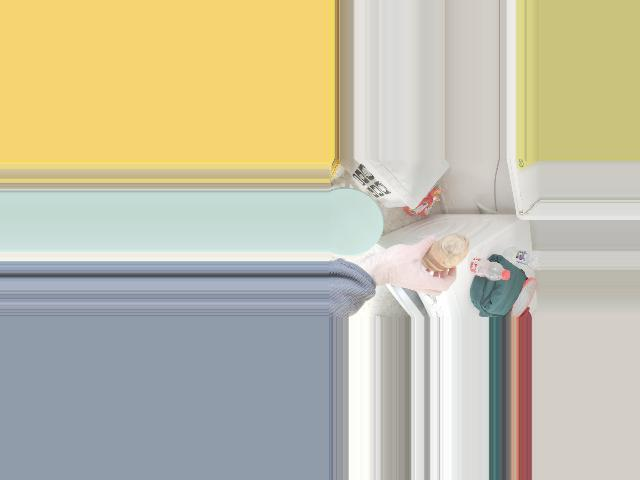sweet_potato: (420, 233, 469, 274)
